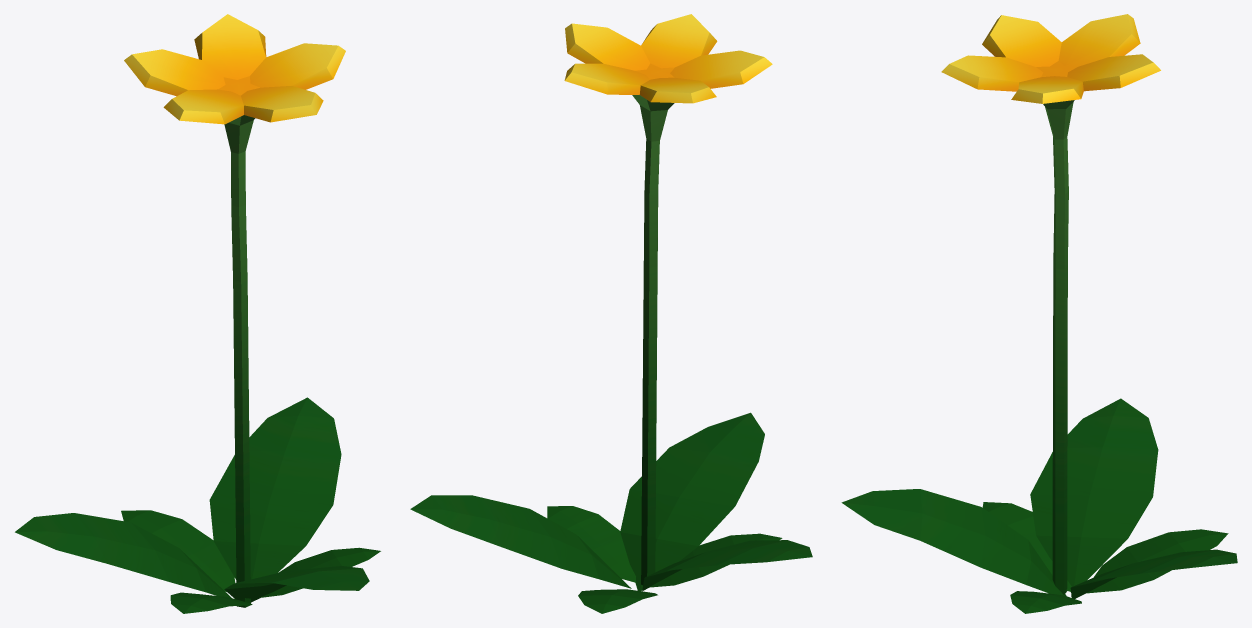
Rendered from Flower_yellow_04.fbx.
3 views of the same model, side by side, from view 1: azimuth 30°, elevation 25°; view 2: azimuth 150°, elevation 25°; view 3: azimuth 270°, elevation 25° (orthographic).
Parts seen in each view (by area): view 1: Flower_yellow_04; view 2: Flower_yellow_04; view 3: Flower_yellow_04.
Part boxes in pixels (left/top/right/bottom): Flower_yellow_04: left=15, top=14, right=380, bottom=613; Flower_yellow_04: left=410, top=14, right=812, bottom=613; Flower_yellow_04: left=841, top=14, right=1237, bottom=613.
Bounding box in the file's own units: 29.76 × 44.58 × 29.03.
